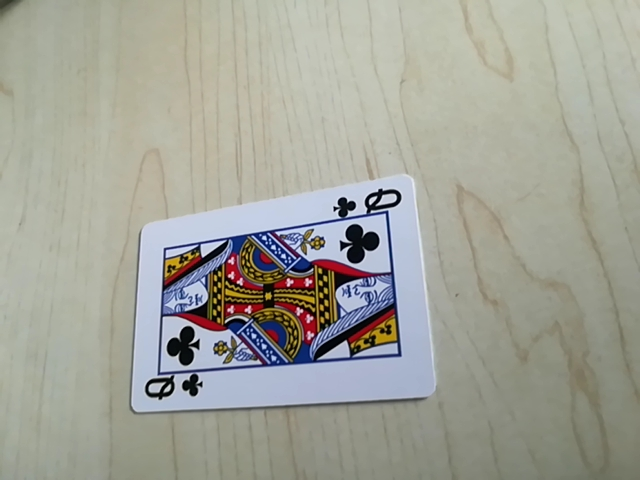mh q: (137, 369, 206, 408), (332, 186, 406, 220)
